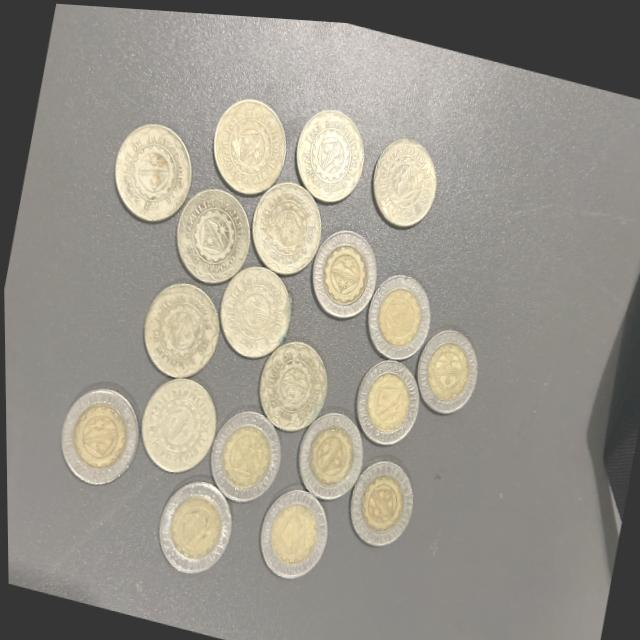10_Old_Back: (52, 380, 145, 494), (304, 217, 383, 321), (349, 348, 425, 447), (410, 318, 484, 416)
5_Old_Back: (166, 177, 260, 291), (288, 99, 372, 206)
